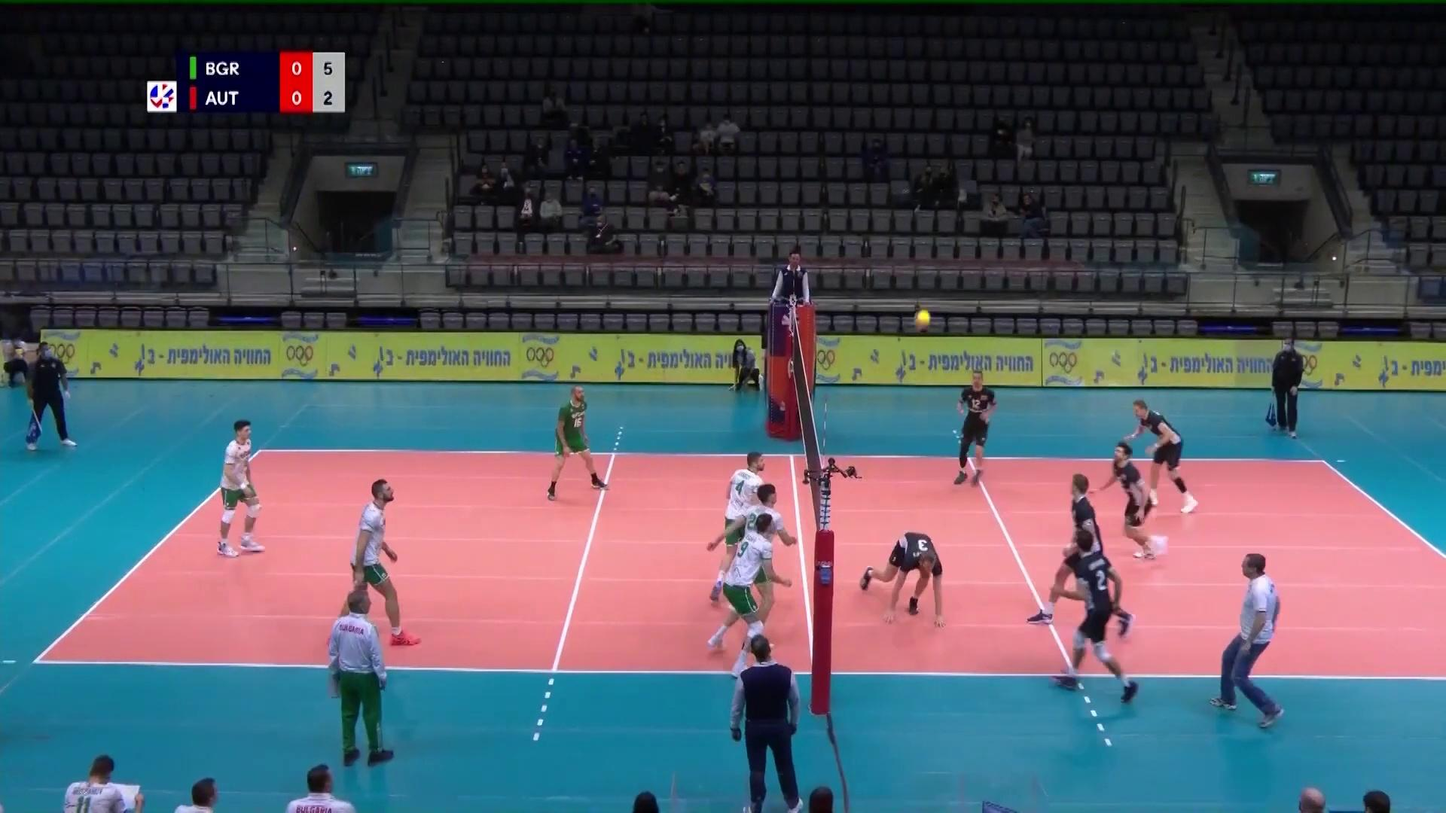ball: (913, 308, 930, 331)
